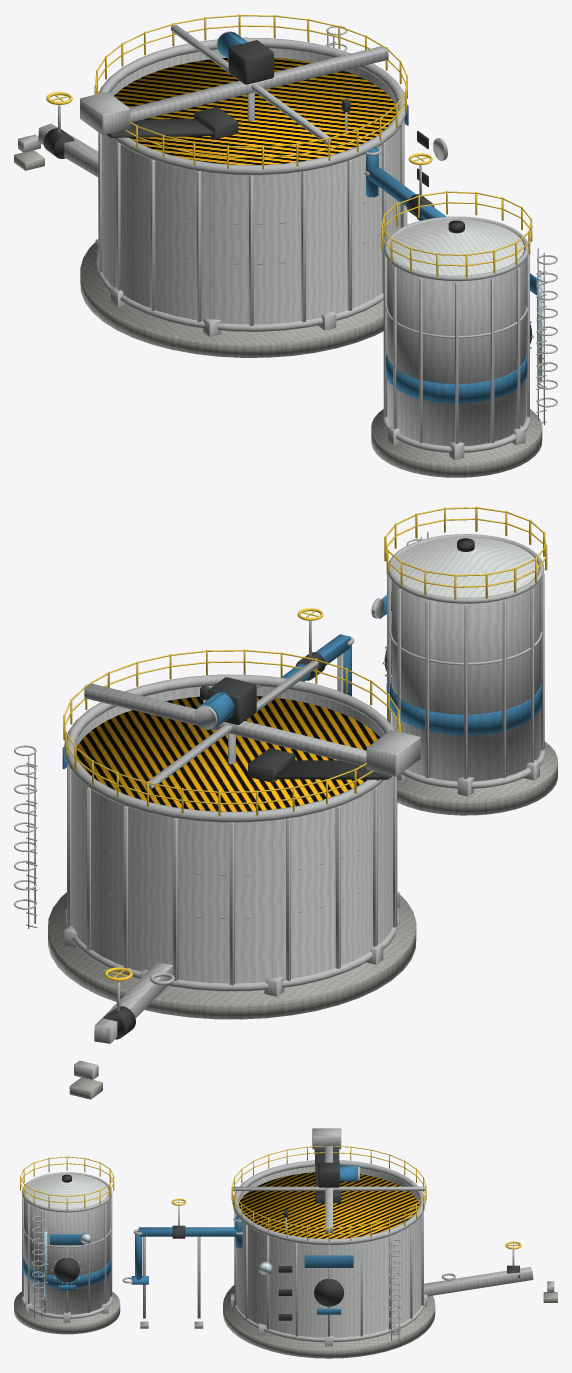
The model's file is Level3_SlurryWaterTank_IndustrialUV_v2.fbx.
The picture shows the model from 3 angles, top to bottom: view 1: azimuth 30°, elevation 25°; view 2: azimuth 150°, elevation 25°; view 3: azimuth 270°, elevation 25°; orthographic projection. The views are drawn at different scales.
Parts seen in each view (by area): view 1: L3_SlurryTank_OpenShell_SmoothSteel, L3_WaterTank_VerticalShell_SmoothSteel, L3_SlurryTank_HazardBand, L3_SlurryTank_ConcretePlinth, L3_SlurryTank_HeavyTopRimPipe, L3_WaterTank_ShallowConicalRoof, L3_WaterTank_ConcretePlinth, L3_SlurryTank_AgitatorBridge_PrimaryBeam, L3_WaterTank_BlueBand, L3_SlurryTank_BottomReinforcementRing, L3_SlurryTank_FeedHood, L3_SlurryTank_AgitatorGearbox_Rounded (+21 smaller); view 2: L3_SlurryTank_OpenShell_SmoothSteel, L3_WaterTank_VerticalShell_SmoothSteel, L3_SlurryTank_HazardBand, L3_SlurryTank_ConcretePlinth, L3_SlurryTank_HeavyTopRimPipe, L3_WaterTank_ShallowConicalRoof, L3_WaterTank_ConcretePlinth, L3_SlurryTank_AgitatorBridge_PrimaryBeam, L3_WaterTank_BlueBand, L3_SlurryTank_BottomReinforcementRing, L3_SlurryTank_FeedHood, L3_SlurryTank_OutletPipe_ToPump (+20 smaller); view 3: L3_SlurryTank_OpenShell_SmoothSteel, L3_SlurryTank_HazardBand, L3_WaterTank_VerticalShell_SmoothSteel, L3_SlurryTank_ConcretePlinth, L3_SlurryTank_HeavyTopRimPipe, L3_WaterTank_ShallowConicalRoof, L3_WaterTank_ConcretePlinth, L3_SlurryTank_OutletPipe_ToPump, L3_SlurryTank_BottomReinforcementRing, L3_SlurryTank_AgitatorBridge_CrossBrace, L3_WaterTank_BlueBand, L3_ProcessWaterPipe_Segment_Horizontal (+13 smaller).
Part boxes in pixels (<box>): L3_SlurryTank_OpenShell_SmoothSteel: <box>102,48,403,324</box>; L3_WaterTank_VerticalShell_SmoothSteel: <box>387,259,525,445</box>; L3_SlurryTank_HazardBand: <box>114,57,395,164</box>; L3_SlurryTank_ConcretePlinth: <box>80,242,383,357</box>; L3_SlurryTank_HeavyTopRimPipe: <box>99,37,406,175</box>; L3_WaterTank_ShallowConicalRoof: <box>389,219,523,275</box>; L3_WaterTank_ConcretePlinth: <box>371,409,542,477</box>; L3_SlurryTank_AgitatorBridge_PrimaryBeam: <box>129,46,388,122</box>; L3_WaterTank_BlueBand: <box>386,355,527,403</box>; L3_SlurryTank_BottomReinforcementRing: <box>96,253,383,331</box>; L3_SlurryTank_FeedHood: <box>80,92,130,135</box>; L3_SlurryTank_AgitatorGearbox_Rounded: <box>228,40,273,84</box>; L3_SlurryTank_OpenShell_SmoothSteel: <box>68,686,392,983</box>; L3_WaterTank_VerticalShell_SmoothSteel: <box>391,580,540,781</box>; L3_SlurryTank_HazardBand: <box>76,696,380,811</box>; L3_SlurryTank_ConcretePlinth: <box>48,892,416,1019</box>; L3_SlurryTank_HeavyTopRimPipe: <box>64,674,394,822</box>; L3_WaterTank_ShallowConicalRoof: <box>393,537,538,597</box>; L3_WaterTank_ConcretePlinth: <box>397,741,557,815</box>; L3_SlurryTank_AgitatorBridge_PrimaryBeam: <box>84,683,366,766</box>; L3_WaterTank_BlueBand: <box>390,677,541,735</box>; L3_SlurryTank_BottomReinforcementRing: <box>64,907,399,991</box>; L3_SlurryTank_FeedHood: <box>366,730,420,776</box>; L3_SlurryTank_OutletPipe_ToPump: <box>94,962,172,1043</box>; L3_SlurryTank_OpenShell_SmoothSteel: <box>236,1166,421,1337</box>; L3_SlurryTank_HazardBand: <box>239,1172,419,1238</box>; L3_WaterTank_VerticalShell_SmoothSteel: <box>24,1199,110,1314</box>; L3_SlurryTank_ConcretePlinth: <box>223,1285,435,1358</box>; L3_SlurryTank_HeavyTopRimPipe: <box>232,1160,425,1245</box>; L3_WaterTank_ShallowConicalRoof: <box>25,1174,108,1208</box>; L3_WaterTank_ConcretePlinth: <box>14,1291,120,1334</box>; L3_SlurryTank_OutletPipe_ToPump: <box>424,1267,533,1296</box>; L3_SlurryTank_BottomReinforcementRing: <box>233,1292,425,1342</box>; L3_SlurryTank_AgitatorBridge_CrossBrace: <box>233,1186,425,1190</box>; L3_WaterTank_BlueBand: <box>23,1258,110,1287</box>; L3_ProcessWaterPipe_Segment_Horizontal: <box>138,1227,237,1236</box>.
Bounding box in the file's own units: 15.49 × 11.4 × 37.89.
13 materials, 13 textured.
